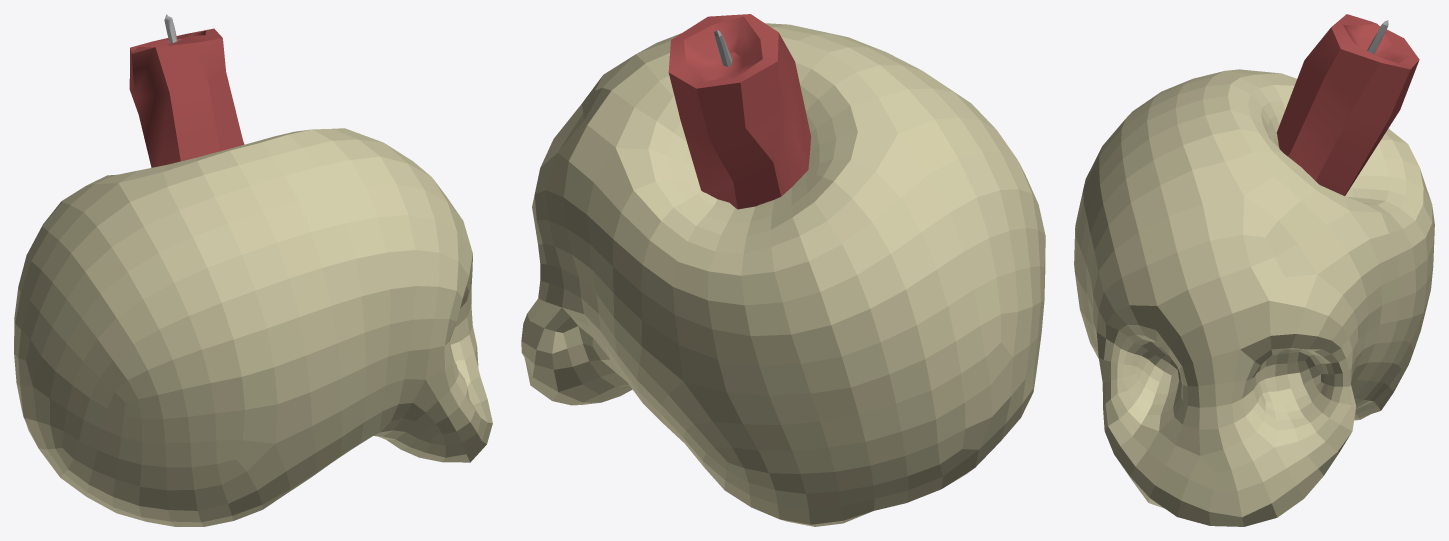
The model's file is medieval_skull_candle.fbx.
The picture shows the model from 3 angles, left to right: view 1: azimuth 30°, elevation 25°; view 2: azimuth 150°, elevation 25°; view 3: azimuth 270°, elevation 25°; orthographic projection. The views are drawn at different scales.
Visible parts, largest first — view 1: polySurface14, candle; view 2: polySurface14, candle; view 3: polySurface14, candle.
Boxes of the visible parts, box(x1,y1,x2,y2) form: polySurface14: box(14, 128, 492, 526); candle: box(129, 28, 244, 167); polySurface14: box(521, 23, 1045, 526); candle: box(668, 14, 810, 209); polySurface14: box(1074, 69, 1434, 526); candle: box(1276, 14, 1419, 195).
Size of the model in its own units: 2.61 by 2.48 by 1.94.
